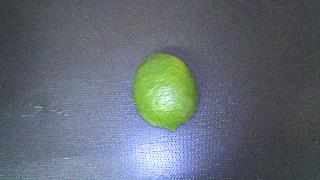EXPORTACION: (133, 53, 199, 131)
